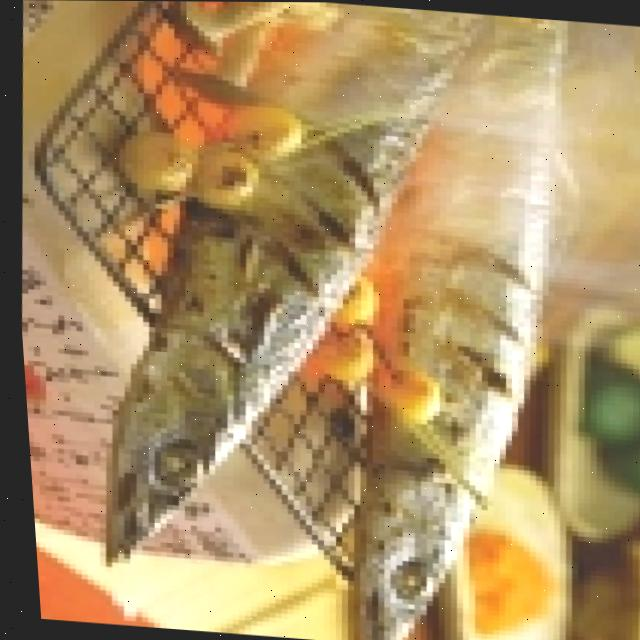熟制海鲜: (129, 1, 557, 640)
